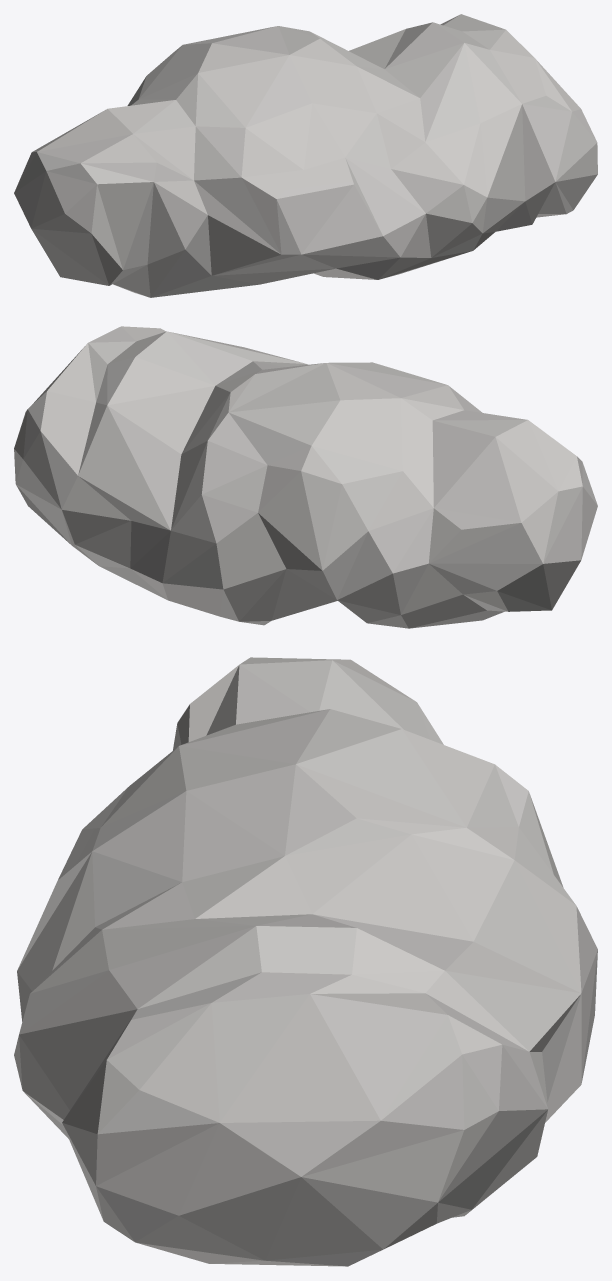
File: SM_Env_Cloud_04.gltf
The picture shows the model from 3 angles, top to bottom: view 1: azimuth 30°, elevation 25°; view 2: azimuth 150°, elevation 25°; view 3: azimuth 270°, elevation 25°; orthographic projection. The views are drawn at different scales.
Parts seen in each view (by area): view 1: SM_Env_Cloud_04; view 2: SM_Env_Cloud_04; view 3: SM_Env_Cloud_04.
Boxes of the visible parts, <box> form: SM_Env_Cloud_04: <box>14,14,597,297</box>; SM_Env_Cloud_04: <box>14,326,597,628</box>; SM_Env_Cloud_04: <box>14,657,597,1266</box>.
Bounding box in the file's own units: 5.5 × 2.31 × 3.25.
1 material, 1 textured.
